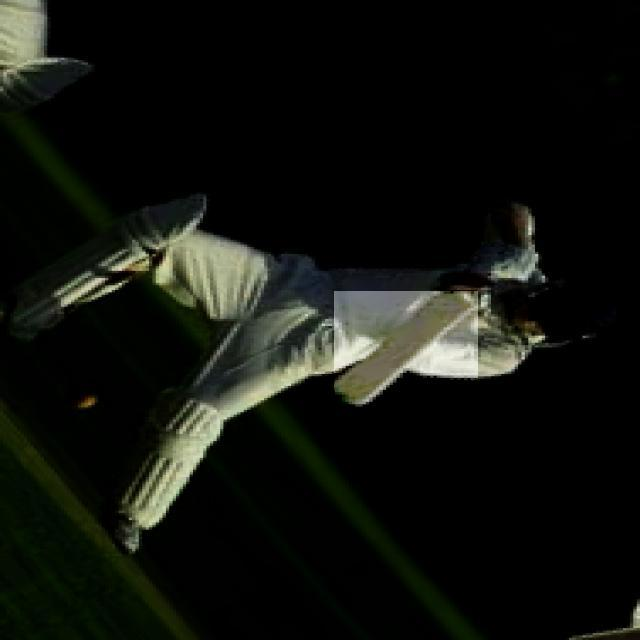bat: (333, 290, 479, 400)
toe: (334, 388, 370, 403)
